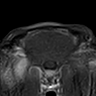Brain: (28, 33, 72, 65)
